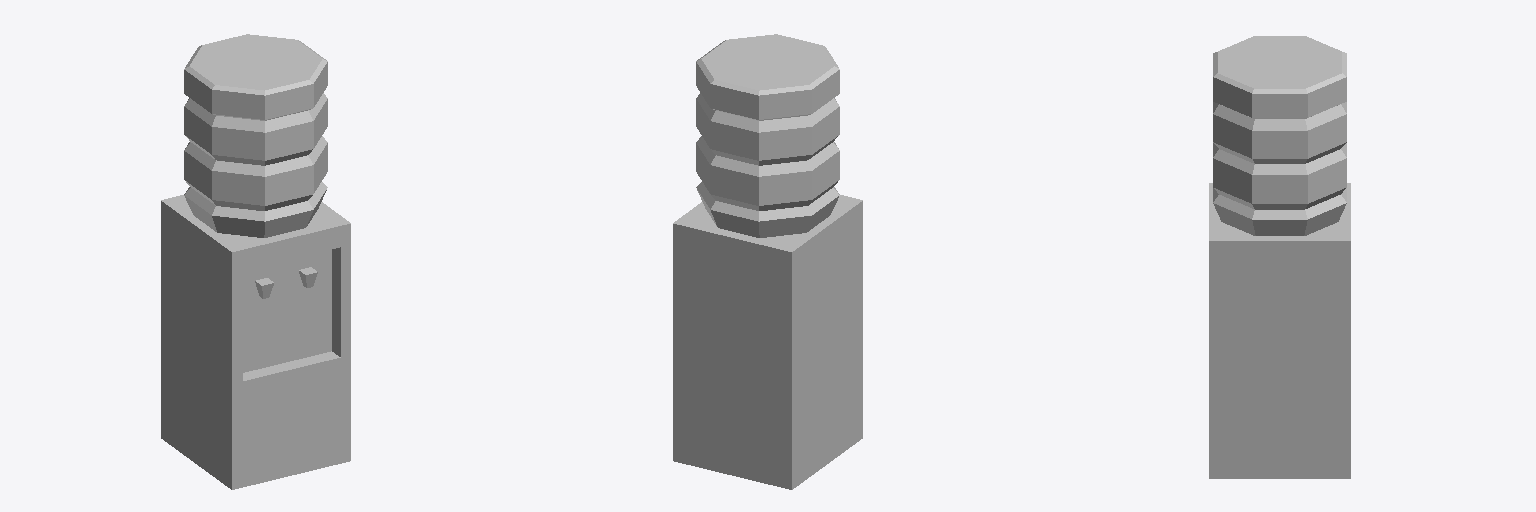
Rendered from waterCooler.obj.
3 views of the same model, side by side, from view 1: azimuth 30°, elevation 25°; view 2: azimuth 150°, elevation 25°; view 3: azimuth 270°, elevation 25° (orthographic).
Visible parts, largest first — view 1: waterCooler; view 2: waterCooler; view 3: waterCooler.
Part boxes in pixels (x1,y1,x2,y2): waterCooler: (161,34,350,489); waterCooler: (673,34,862,489); waterCooler: (1209,36,1350,478).
Bounding box in the file's own units: 0.525 × 1.63 × 0.5428.